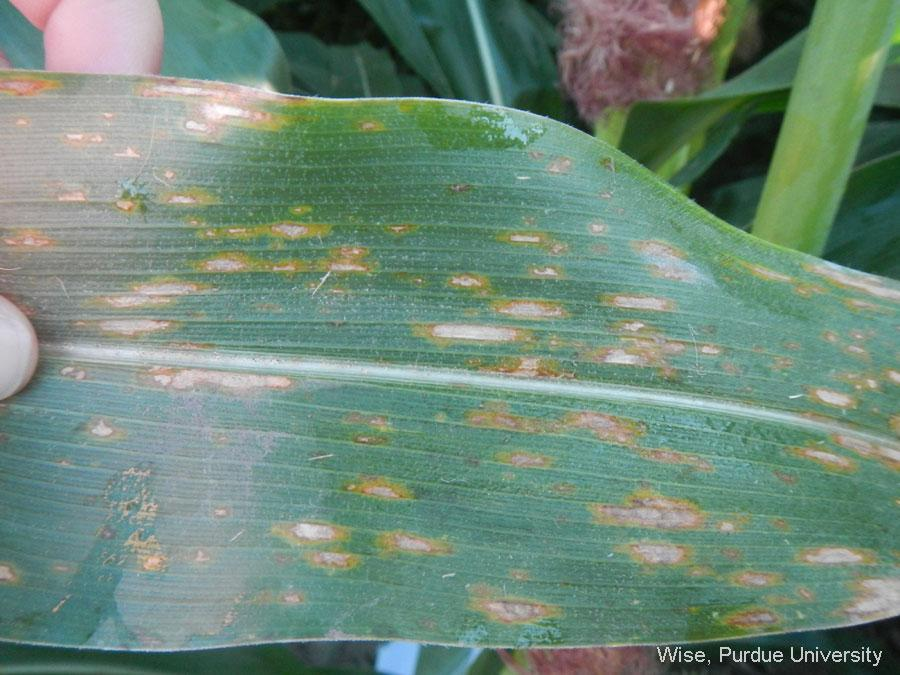Gray_Leaf_Spot: (422, 233, 722, 484), (769, 254, 900, 492), (155, 167, 359, 299), (141, 66, 422, 143), (695, 538, 900, 632), (585, 473, 733, 589), (0, 276, 216, 354), (251, 513, 455, 588), (138, 576, 336, 651), (91, 469, 184, 578), (44, 101, 162, 176), (461, 563, 571, 632), (357, 215, 427, 313), (479, 447, 589, 498), (146, 367, 305, 398), (589, 155, 633, 248), (334, 471, 438, 509), (0, 57, 64, 109), (521, 147, 595, 190), (340, 403, 405, 449), (718, 241, 774, 289), (0, 217, 74, 253), (80, 409, 141, 452), (51, 557, 89, 616), (45, 174, 107, 210), (55, 357, 116, 389), (0, 554, 28, 605), (441, 176, 492, 203), (9, 106, 49, 136), (111, 186, 141, 217), (51, 452, 85, 479), (188, 541, 218, 571), (207, 499, 242, 523), (768, 511, 799, 537), (429, 409, 461, 429)
